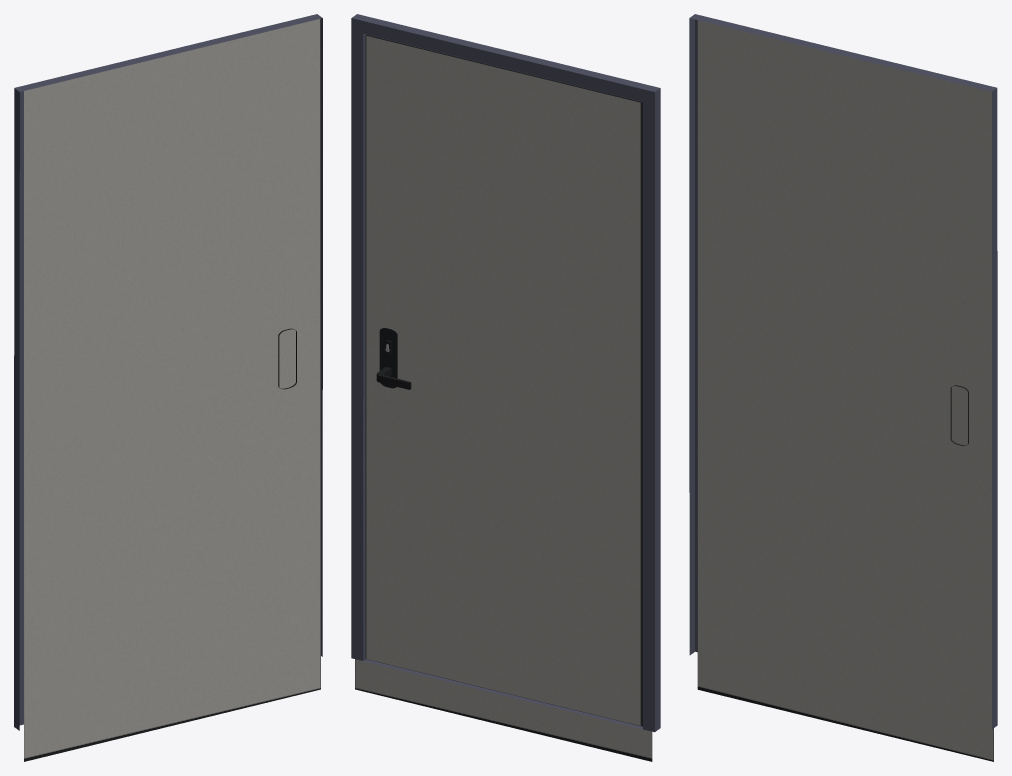
The model's file is Door.fbx.
3 renders of one model, left to right at view 1: azimuth 30°, elevation 25°; view 2: azimuth 150°, elevation 25°; view 3: azimuth 330°, elevation 25°, orthographic.
Parts seen in each view (by area): view 1: DoorBase, DoorRama; view 2: DoorBase, DoorRama; view 3: DoorBase, DoorRama.
Boxes of the visible parts, box(x1,y1,x2,y2) form: DoorBase: box(24, 18, 320, 761); DoorRama: box(14, 14, 322, 730); DoorBase: box(355, 36, 652, 761); DoorRama: box(351, 14, 660, 732); DoorBase: box(697, 20, 993, 761); DoorRama: box(689, 14, 997, 729).
Bounding box in the file's own units: 109 × 232 × 8.17.
